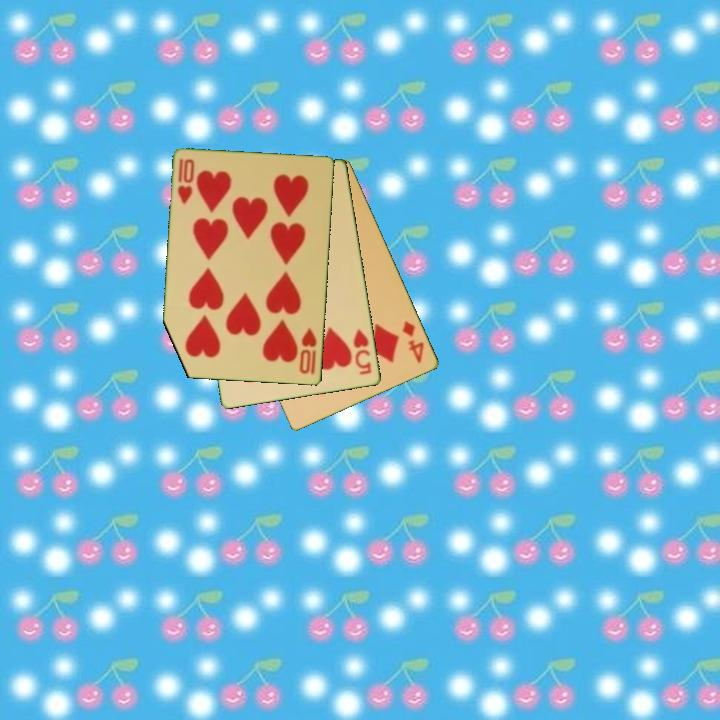10h: (296, 325, 320, 378), (174, 155, 198, 207)
4d: (399, 317, 427, 366)
5h: (350, 325, 374, 378)
